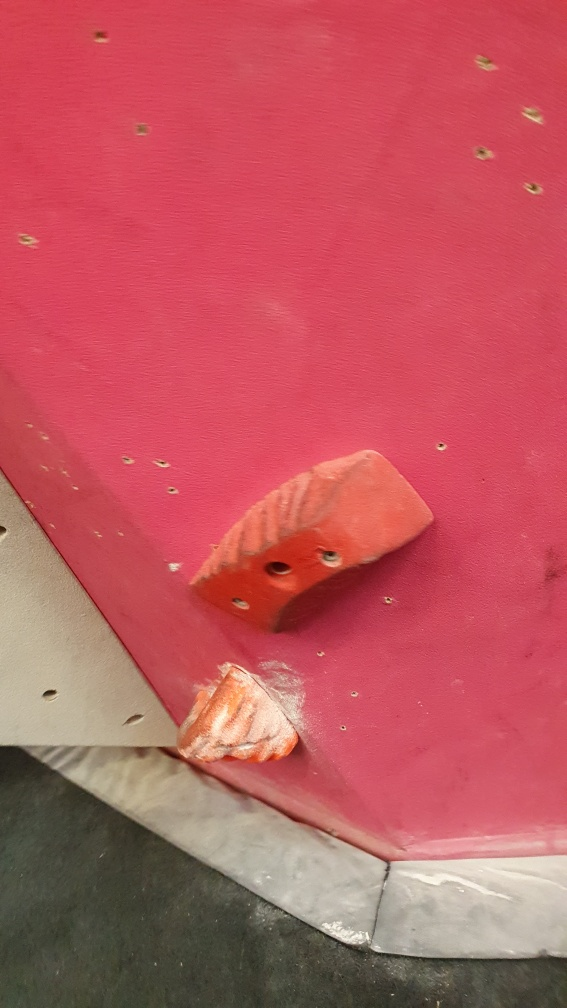Crimp: (183, 440, 439, 634)
Jug: (174, 664, 310, 772)
